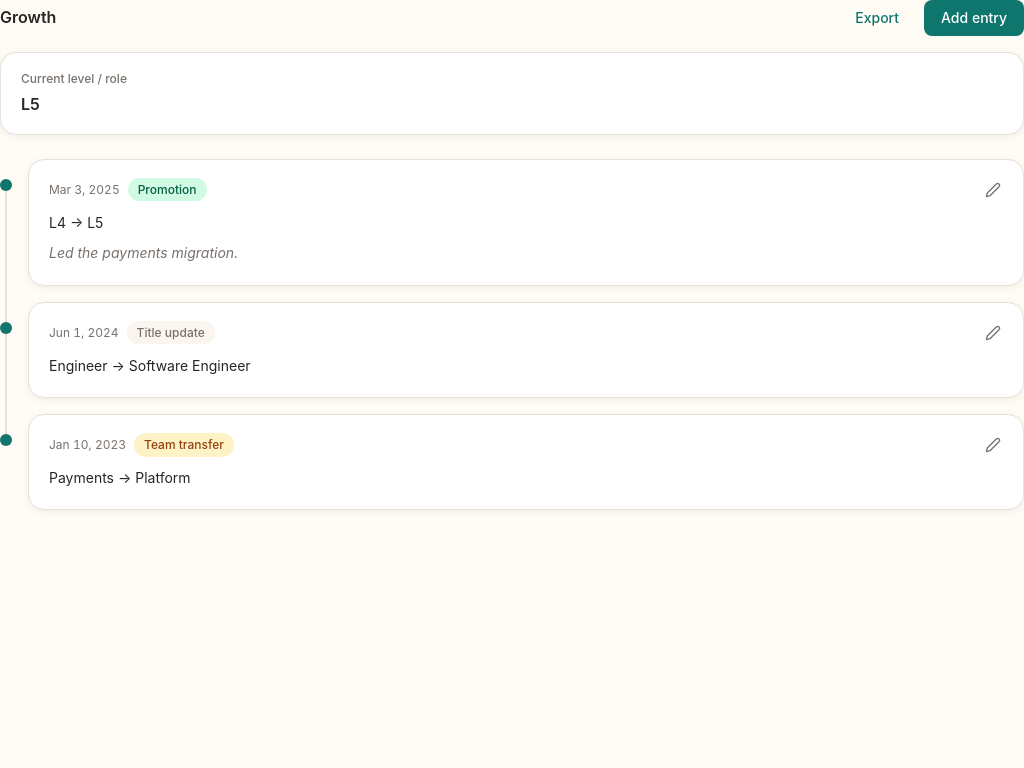
Test: GrowthTimeline › removes the entry only after the delete is confirmed
The image size is (1024, 768).
Click the button named "Edit promotion entry from March 3, 2025" at (993, 190), box 971,168 -> 1015,212
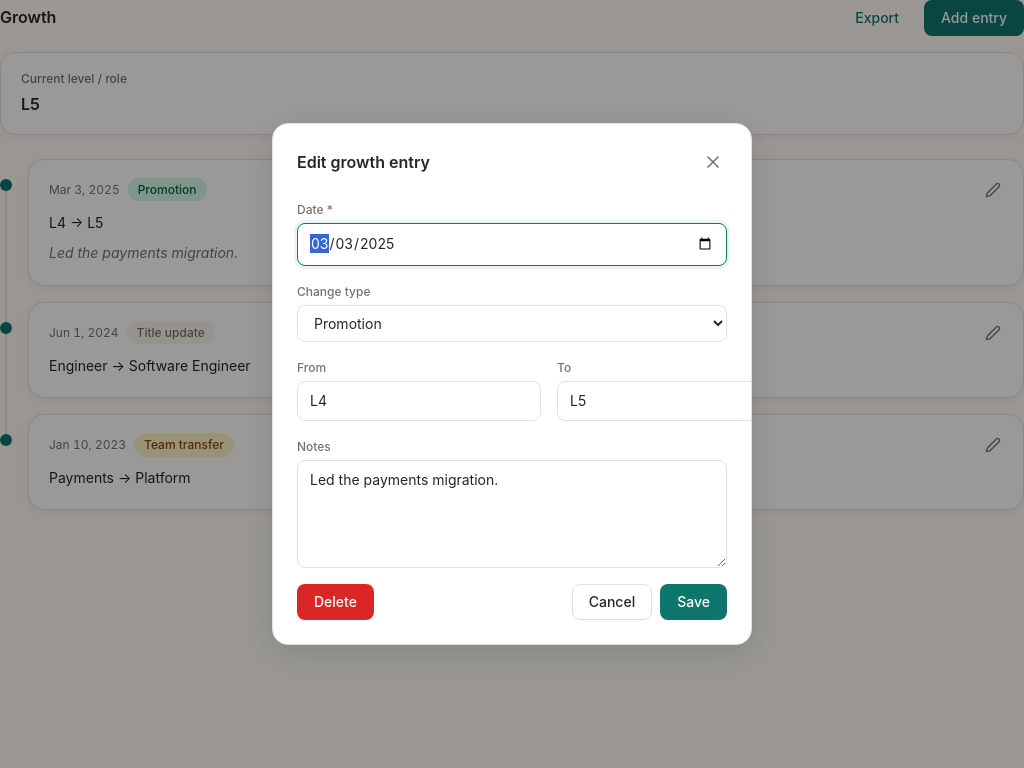
Click the button "Delete" at (335, 602), box 297,584 -> 374,620
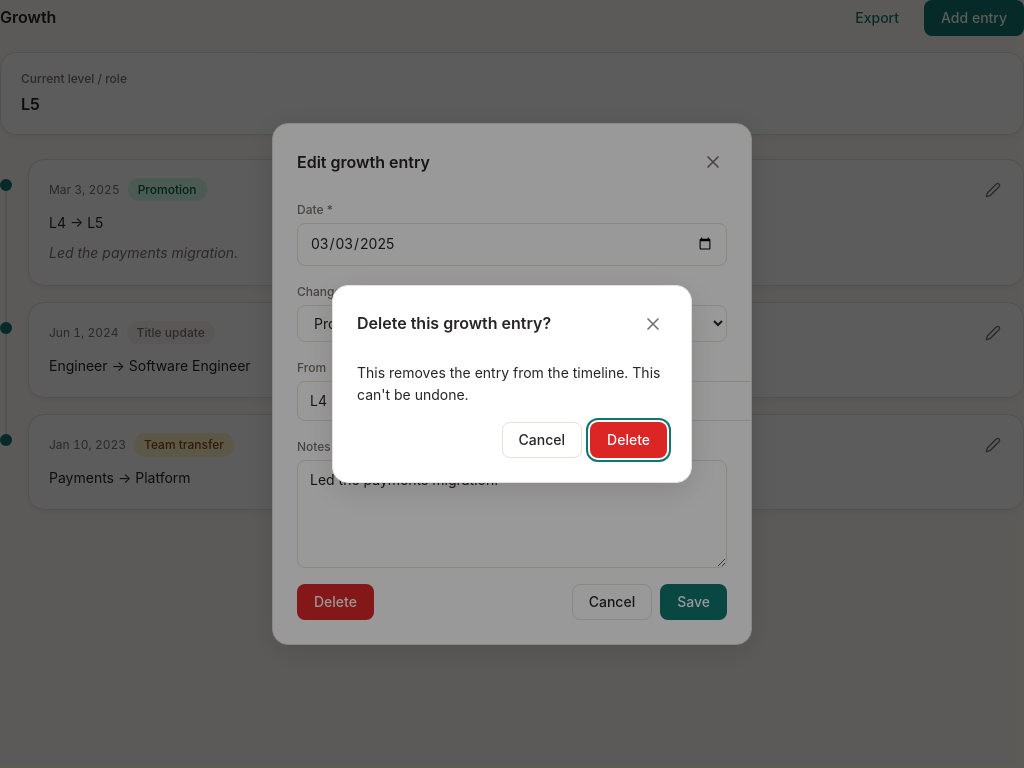
Expected: the number of list items is 3, 0,159 -> 1023,286; 0,302 -> 1023,398; 0,414 -> 1023,510
Click the button "Delete" at (629, 440), box 590,422 -> 667,458
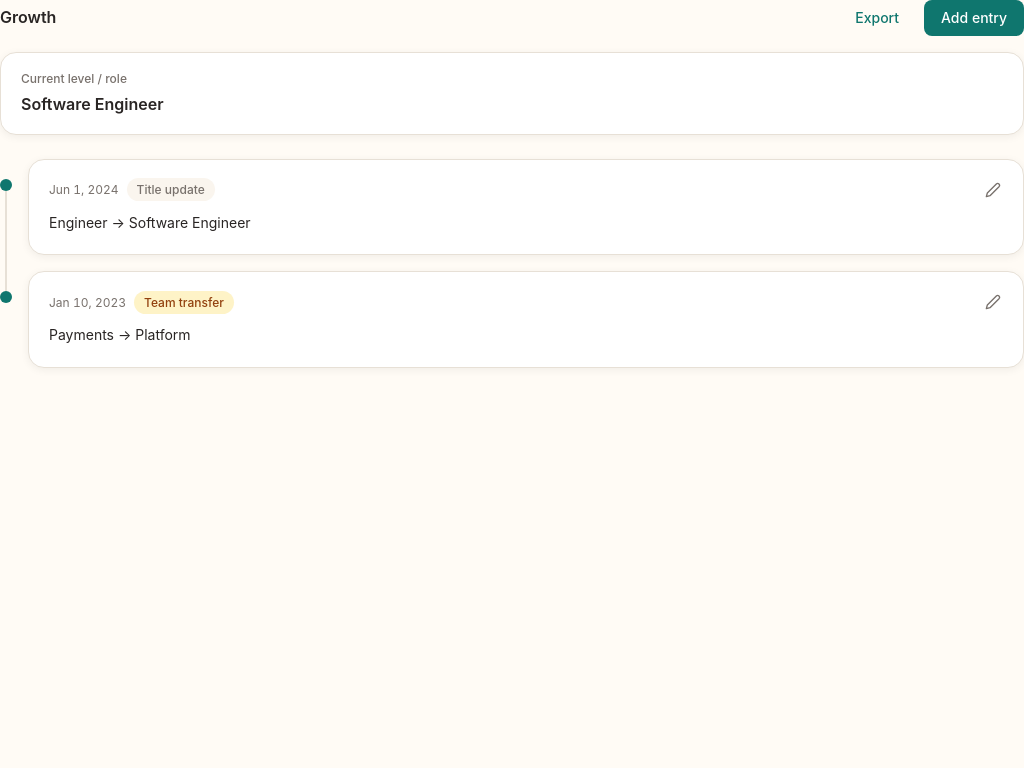
Now the number of list items is 2, box 0,159 -> 1023,255; 0,271 -> 1023,368
Now the text "Mar 3, 2025" is gone
Now the dialog is gone
